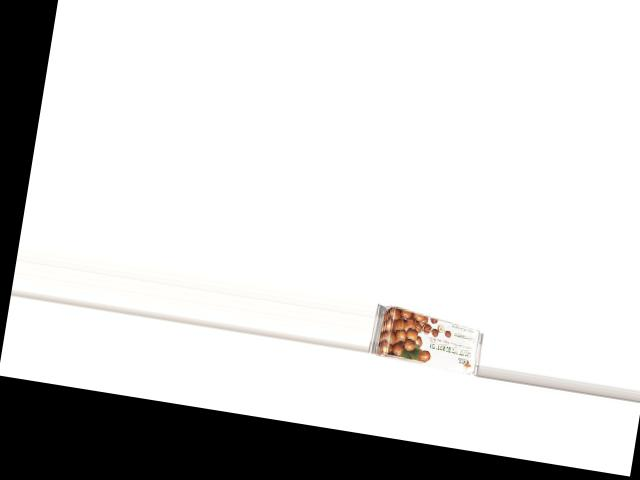chocolate: (369, 303, 487, 373)
